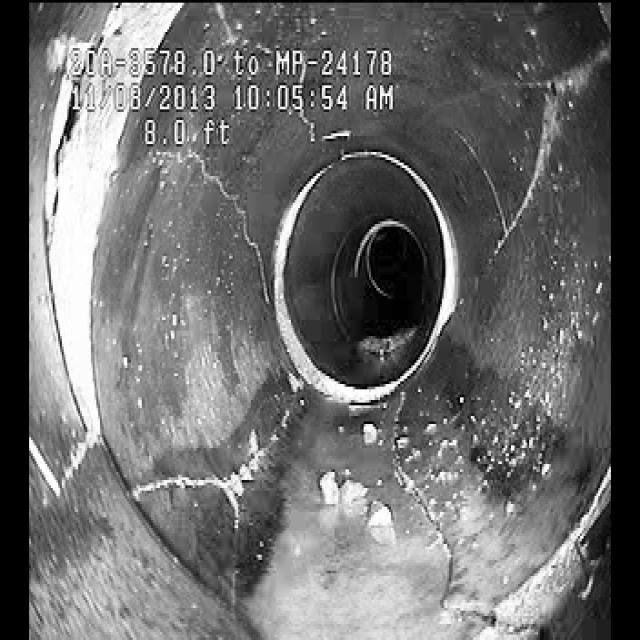Fracture: (458, 65, 576, 272), (372, 404, 484, 622), (146, 398, 298, 556), (202, 148, 273, 288)
